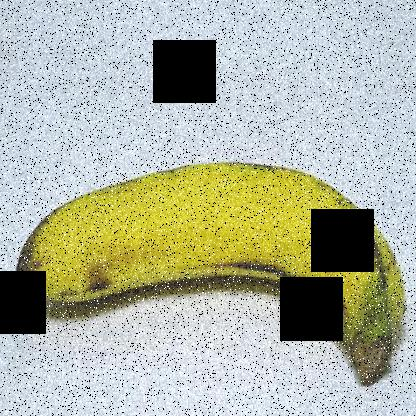freshripe: (6, 142, 415, 394)
